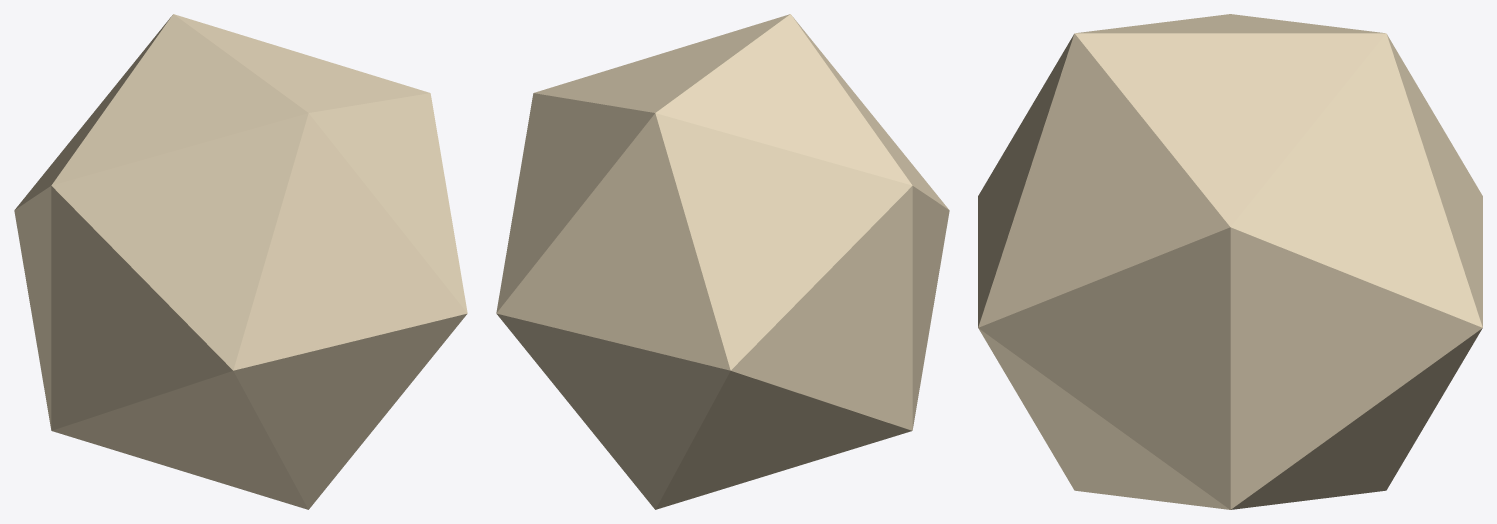
The model's file is icosaedro.glb.
3 renders of one model, left to right at view 1: azimuth 30°, elevation 25°; view 2: azimuth 150°, elevation 25°; view 3: azimuth 270°, elevation 25°, orthographic. The views are drawn at different scales.
Visible parts, largest first — view 1: Mesh4_Wood_Floor_Light_0; view 2: Mesh4_Wood_Floor_Light_0; view 3: Mesh4_Wood_Floor_Light_0.
Boxes of the visible parts, x1,y1,x2,y2 form: Mesh4_Wood_Floor_Light_0: (14, 14, 467, 509); Mesh4_Wood_Floor_Light_0: (496, 14, 949, 509); Mesh4_Wood_Floor_Light_0: (978, 14, 1482, 509).
Size of the model in its own units: 0.0207 by 0.0207 by 0.0207.
